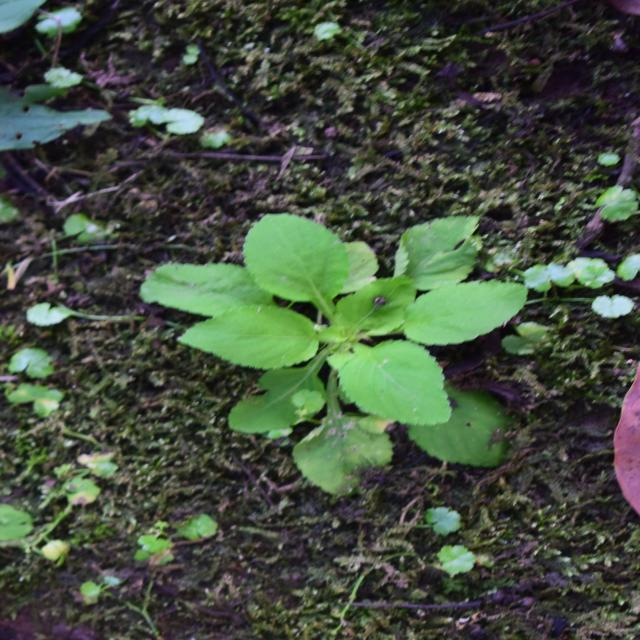Viola: (170, 139, 461, 522)
